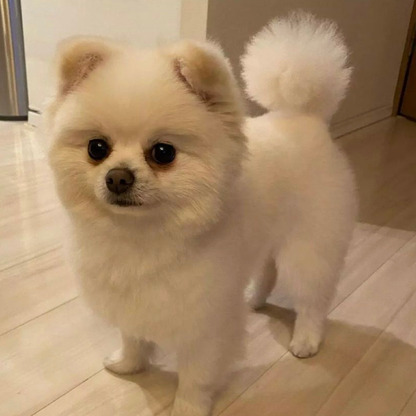Pomeranian: (33, 13, 374, 394)
